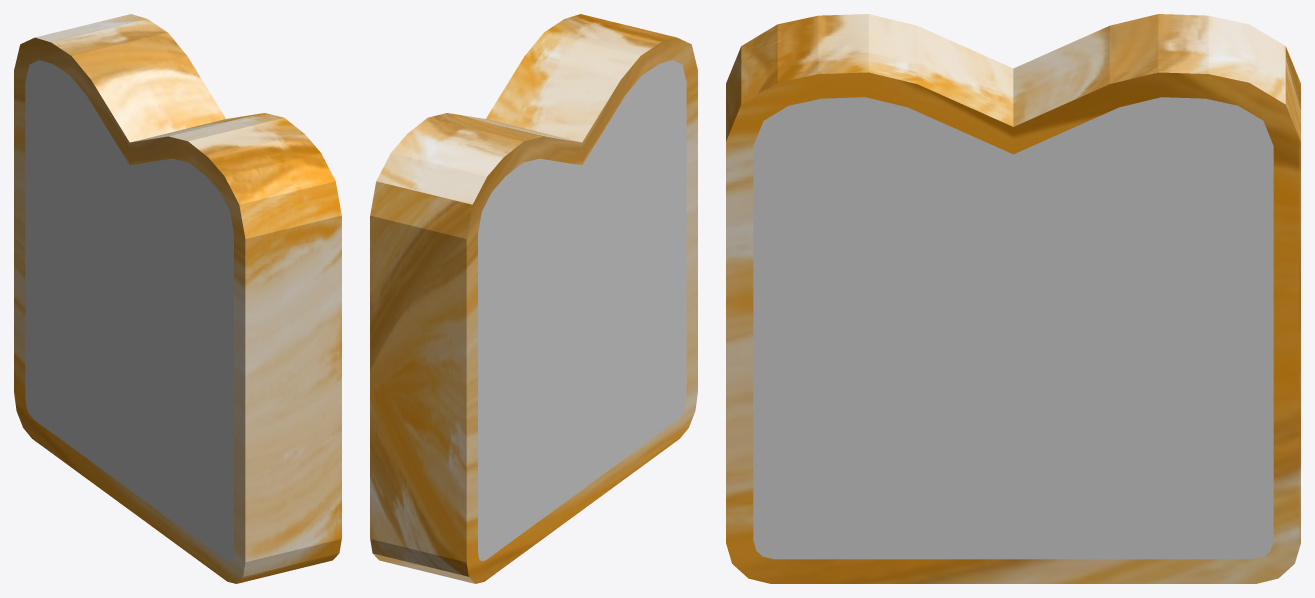
Rendered from bread_slice.glb.
3 views of the same model, side by side, from view 1: azimuth 30°, elevation 25°; view 2: azimuth 150°, elevation 25°; view 3: azimuth 270°, elevation 25° (orthographic). The views are drawn at different scales.
Parts seen in each view (by area): view 1: bread_slice; view 2: bread_slice; view 3: bread_slice.
Part boxes in pixels (x1,y1,x2,y2): bread_slice: [14, 14, 341, 583]; bread_slice: [370, 14, 697, 583]; bread_slice: [726, 14, 1300, 583].
Size of the model in its own units: 2.15 by 8.78 by 8.94.
Materials: 2 (1 with a texture image).
